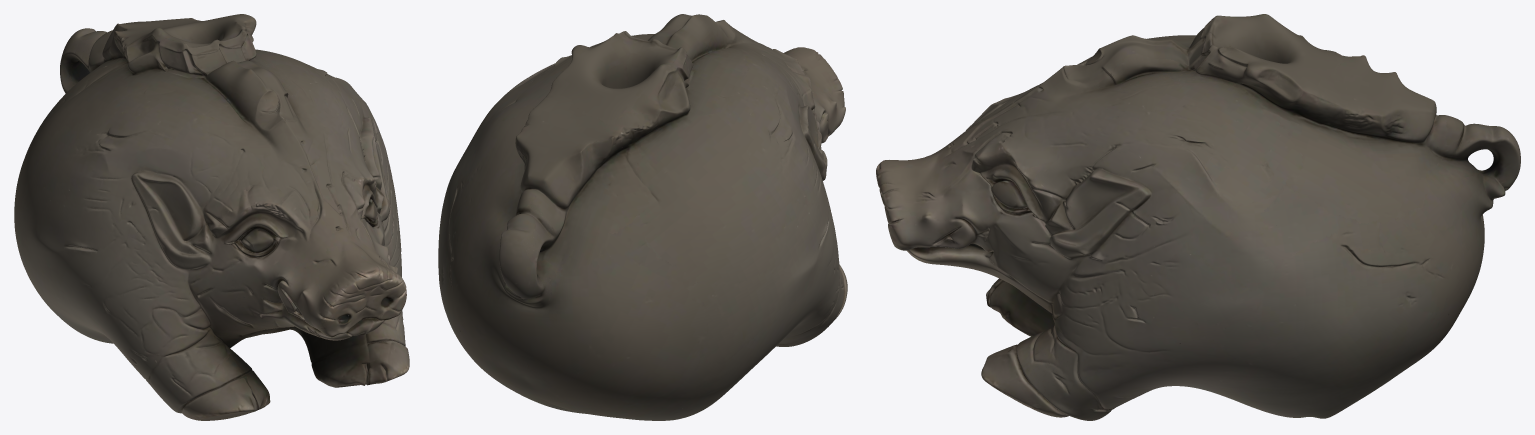
Rendered from pig1.glb.
3 views of the same model, side by side, from view 1: azimuth 30°, elevation 25°; view 2: azimuth 150°, elevation 25°; view 3: azimuth 270°, elevation 25° (orthographic). The views are drawn at different scales.
Parts seen in each view (by area): view 1: node_0; view 2: node_0; view 3: node_0.
Boxes of the visible parts, x1,y1,x2,y2 form: node_0: (14,14,409,420); node_0: (438,14,847,420); node_0: (876,14,1520,420).
Bounding box in the file's own units: 0.7535 × 0.7047 × 1.18.
1 material, 1 textured.
